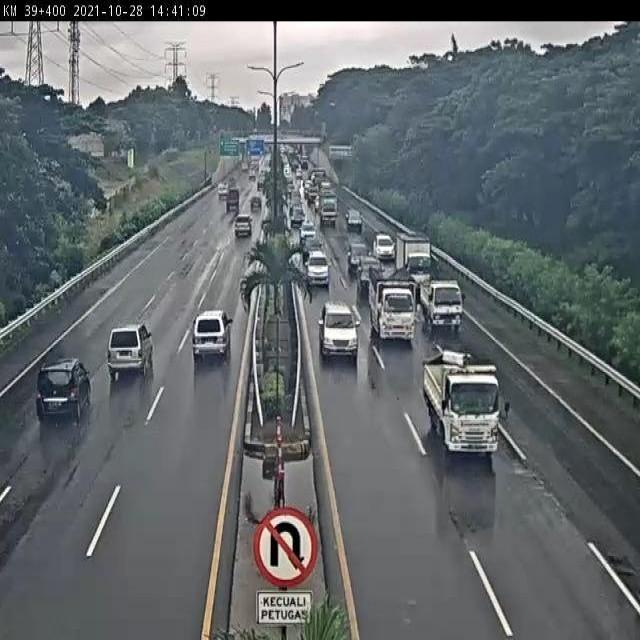car: (320, 302, 361, 358), (305, 248, 331, 287), (357, 254, 383, 290)
mid truck: (421, 351, 500, 460), (35, 359, 92, 424), (368, 269, 417, 343), (107, 323, 154, 380), (420, 276, 463, 335), (188, 309, 232, 364), (393, 233, 433, 290)
